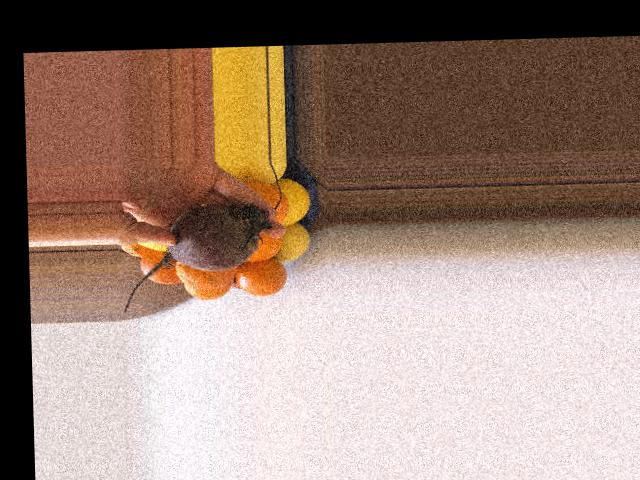beet: (121, 203, 272, 311)
